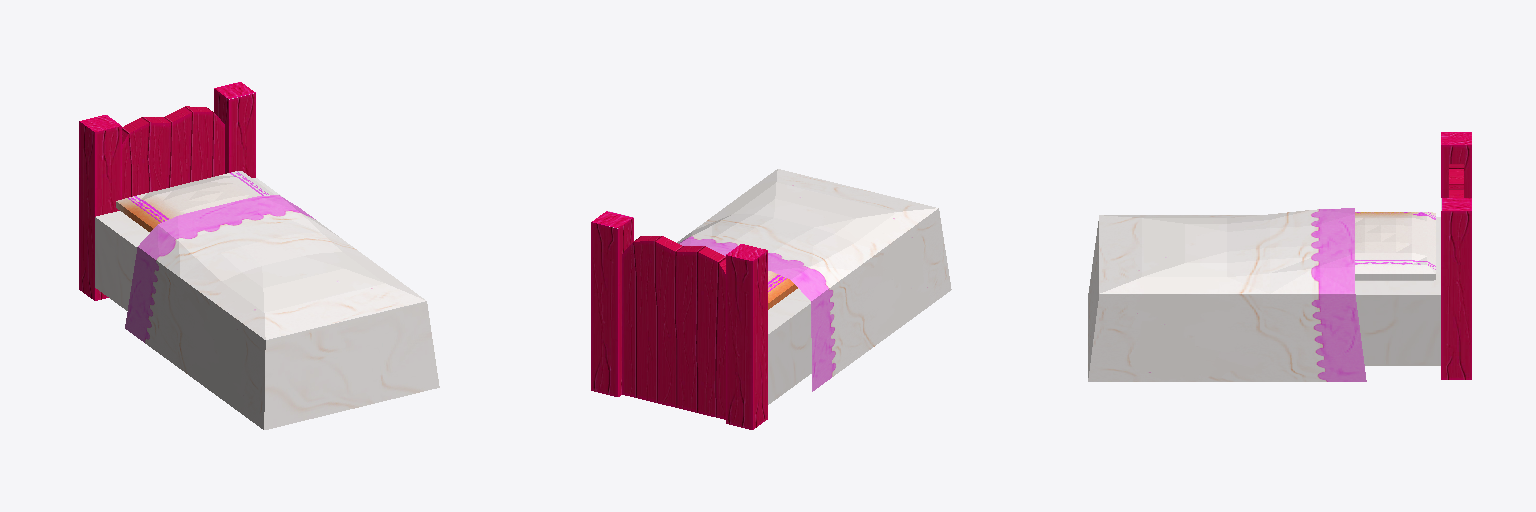
3 renders of one model, left to right at view 1: azimuth 30°, elevation 25°; view 2: azimuth 150°, elevation 25°; view 3: azimuth 270°, elevation 25°, orthographic.
Visible parts, largest first — view 1: polySurface1, pCube4, pCube2, pCube7, pCube1, pCube3; view 2: polySurface1, pCube4, pCube2, pCube3, pCube1, pCube7; view 3: polySurface1, pCube1, pCube3, pCube7, pCube2.
Boxes of the visible parts, box(x1,y1,x2,y2) form: polySurface1: box(125, 195, 439, 429); pCube4: box(122, 106, 224, 198); pCube2: box(79, 115, 121, 300); pCube7: box(116, 171, 273, 231); pCube1: box(95, 178, 283, 310); pCube3: box(214, 82, 255, 177); polySurface1: box(677, 169, 951, 391); pCube4: box(622, 236, 725, 419); pCube2: box(726, 244, 767, 429); pCube3: box(591, 211, 633, 396); pCube1: box(768, 288, 811, 404); pCube7: box(768, 271, 797, 309); polySurface1: box(1088, 208, 1366, 381); pCube1: box(1355, 217, 1440, 365); pCube3: box(1441, 198, 1471, 379); pCube7: box(1355, 212, 1435, 280); pCube2: box(1441, 132, 1471, 197).
Bounding box in the file's own units: 3.26 × 3 × 6.18.
Materials: 1 (1 with a texture image).